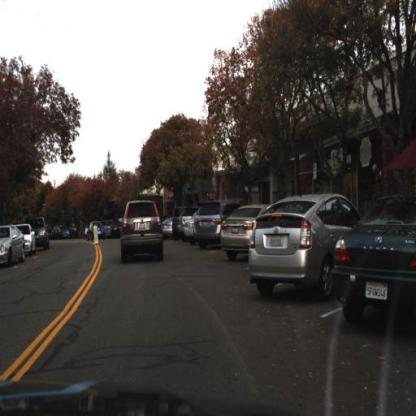car: (249, 191, 357, 300), (334, 193, 416, 336), (116, 197, 167, 266), (219, 200, 262, 265), (196, 200, 235, 251), (193, 201, 231, 252), (1, 226, 27, 266), (29, 218, 48, 250), (178, 207, 194, 238), (21, 225, 35, 256), (177, 208, 191, 239), (184, 214, 198, 244), (171, 208, 182, 241), (183, 217, 198, 240), (87, 221, 106, 239), (163, 215, 176, 240)
